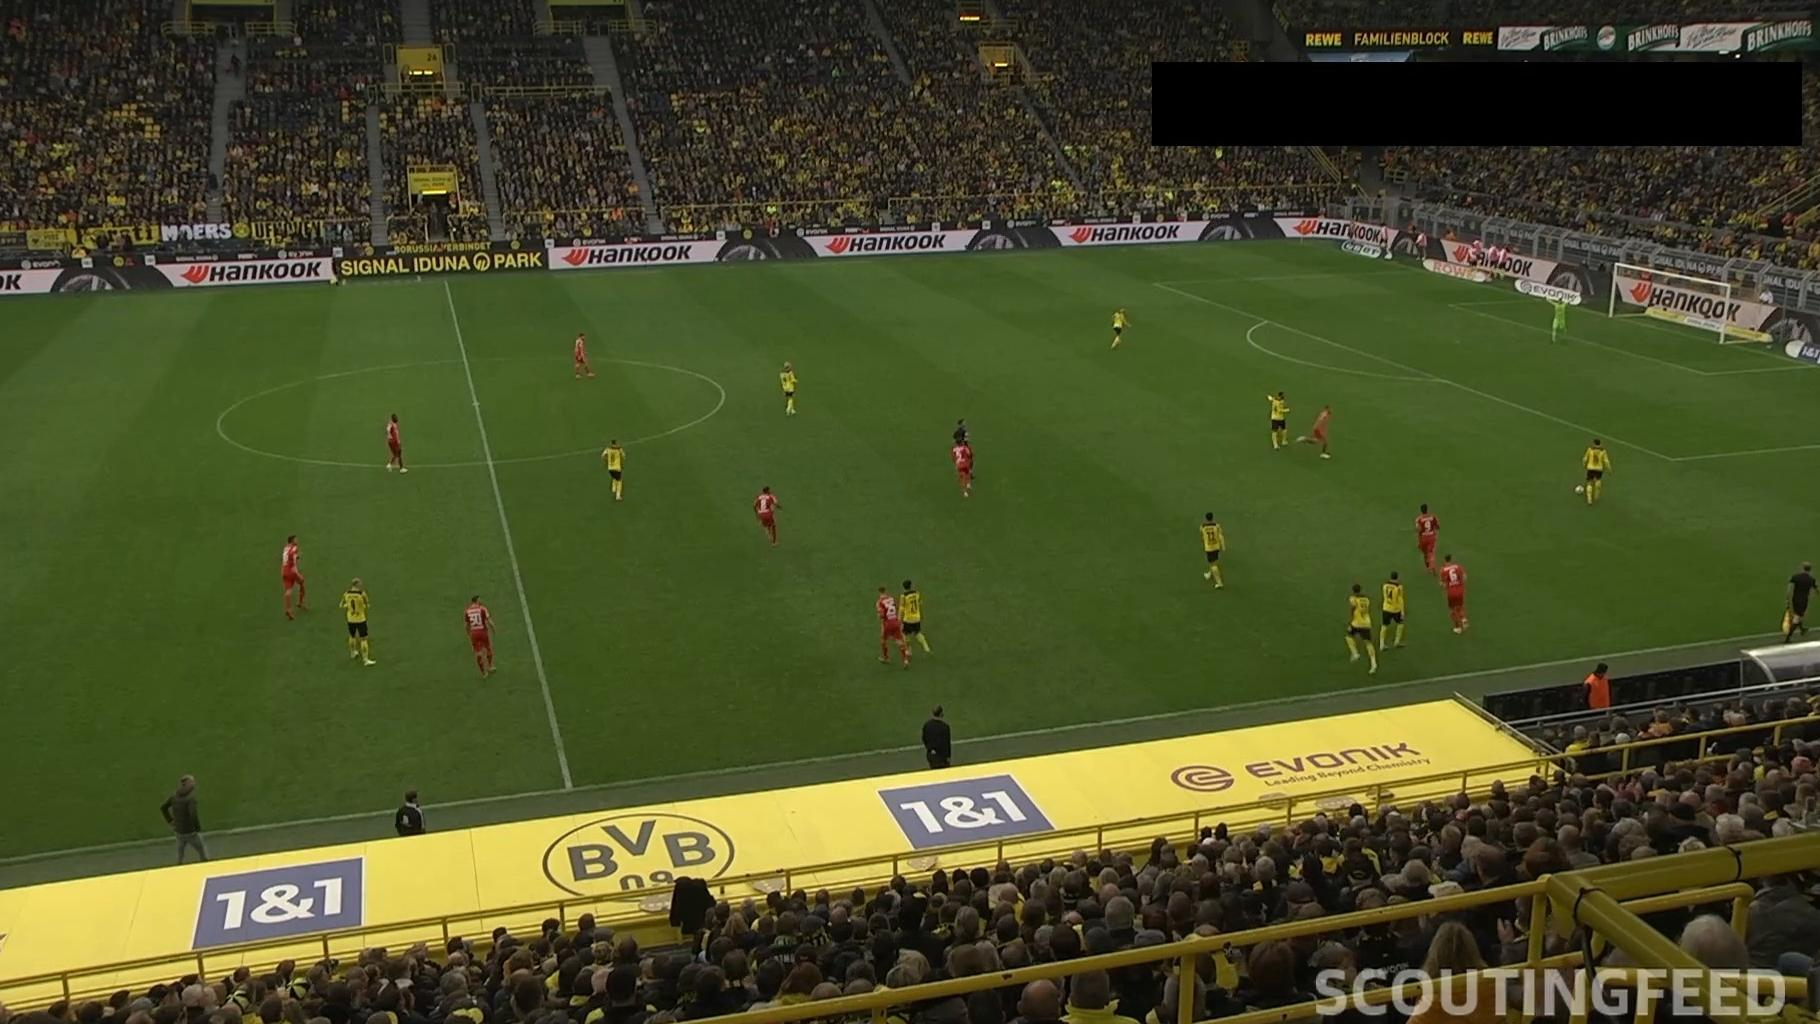ball: (1574, 483, 1586, 495)
